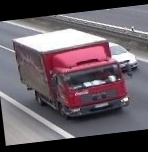truck: (12, 22, 127, 124)
